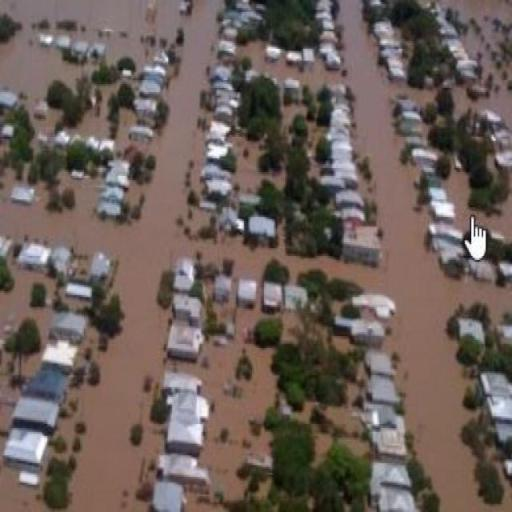flood: (0, 0, 512, 512), (0, 254, 87, 512), (232, 104, 307, 201), (294, 382, 371, 456), (442, 168, 512, 240), (63, 74, 136, 140), (305, 120, 329, 178), (313, 425, 334, 465), (333, 336, 358, 354)
house: (165, 392, 208, 452), (477, 370, 512, 436), (373, 462, 415, 512), (159, 451, 209, 492), (368, 404, 406, 456), (5, 428, 46, 472), (13, 396, 61, 432), (344, 222, 382, 264), (168, 324, 205, 362), (54, 310, 90, 344), (30, 370, 70, 400), (41, 339, 80, 368), (154, 479, 184, 512), (248, 214, 277, 245), (366, 349, 397, 378), (365, 379, 400, 403), (236, 277, 258, 309), (287, 284, 309, 312), (263, 281, 283, 310), (212, 276, 233, 300)
